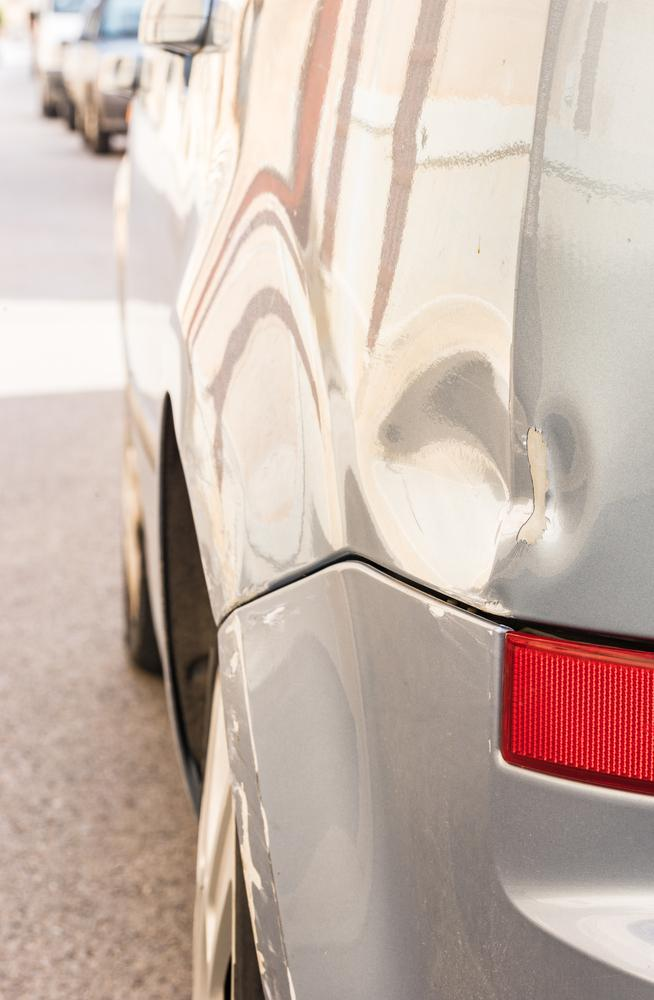dent: (358, 344, 588, 616)
scratch: (222, 607, 296, 1000)
